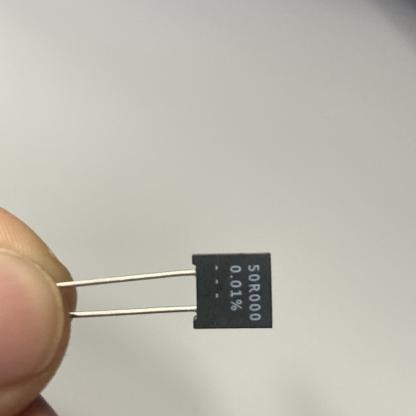SP0000008: (23, 186, 316, 396)
